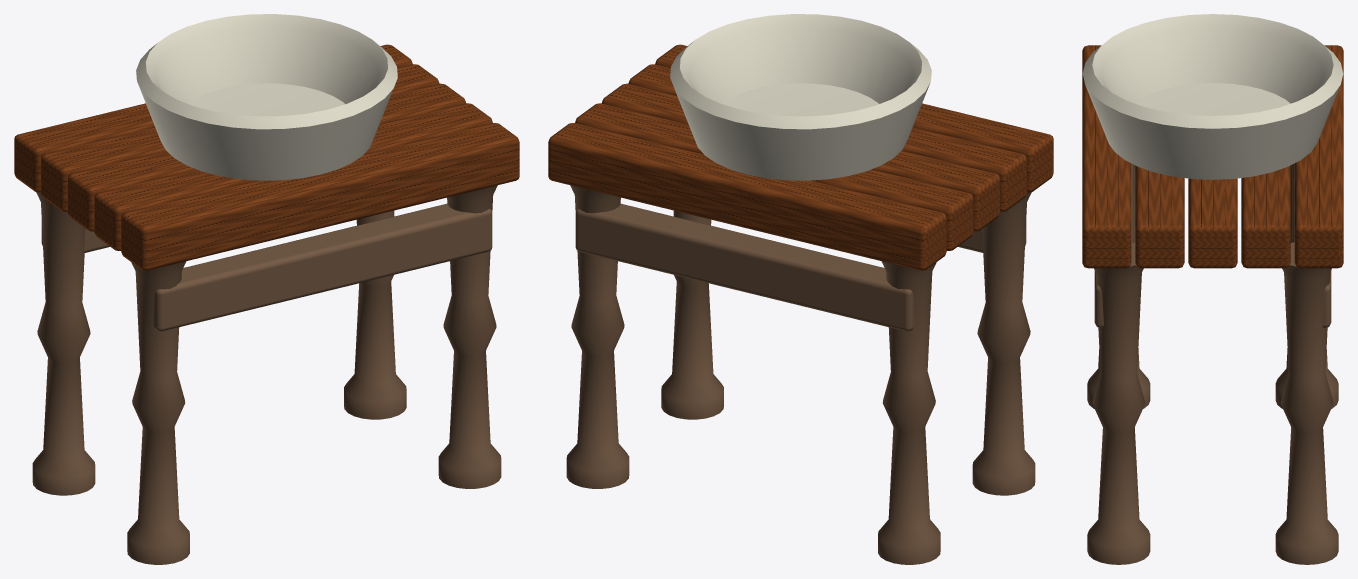
File: adventurers-tavern-and-guild-hall-washstand-1a5bd03b__24705.glb
3 renders of one model, left to right at view 1: azimuth 30°, elevation 25°; view 2: azimuth 150°, elevation 25°; view 3: azimuth 270°, elevation 25°, orthographic.
Parts seen in each view (by area): view 1: washstand; view 2: washstand; view 3: washstand.
Boxes of the visible parts, <box> form: washstand: <box>14,14,519,564</box>; washstand: <box>548,14,1053,564</box>; washstand: <box>1082,14,1343,564</box>.
Bounding box in the file's own units: 0.9 × 0.94 × 0.542.
Materials: 3 (1 with a texture image).
